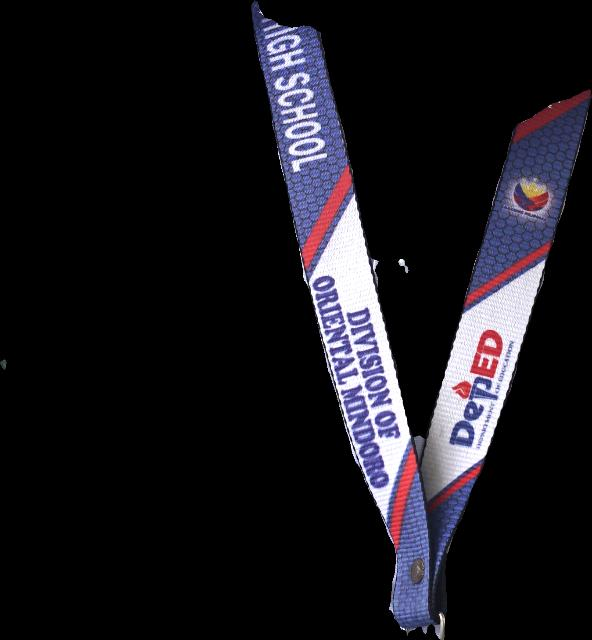id lace: (252, 1, 591, 639)
